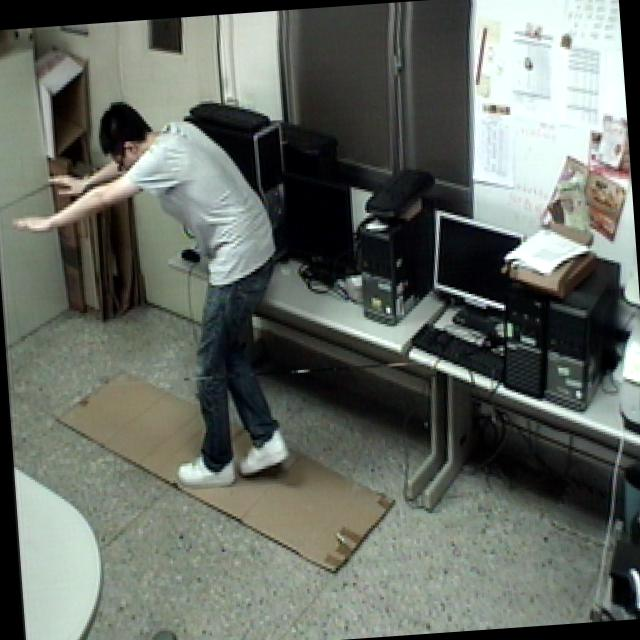bend: (1, 86, 306, 511)
